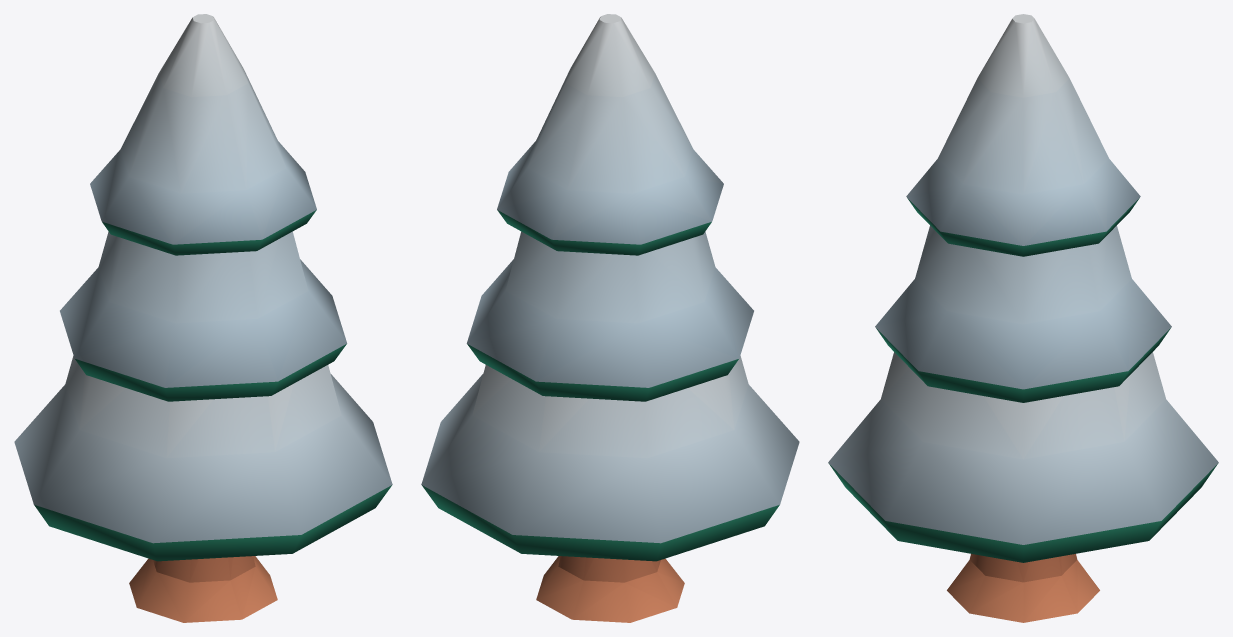
The model's file is sw_pine_c.glb.
The picture shows the model from 3 angles, left to right: view 1: azimuth 30°, elevation 25°; view 2: azimuth 150°, elevation 25°; view 3: azimuth 270°, elevation 25°; orthographic projection.
Visible parts, largest first — view 1: sw_pine_c; view 2: sw_pine_c; view 3: sw_pine_c.
Part boxes in pixels (x1,y1,x2,y2): sw_pine_c: [14, 14, 392, 622]; sw_pine_c: [421, 14, 799, 622]; sw_pine_c: [828, 14, 1218, 622].
Bounding box in the file's own units: 2.85 × 4.6 × 2.85.
